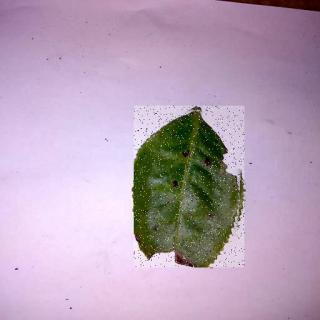Bird Eye Spot: (135, 107, 246, 269)
